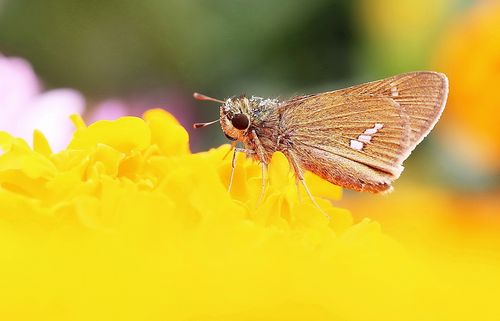Hesperiidae: (193, 59, 455, 195)
